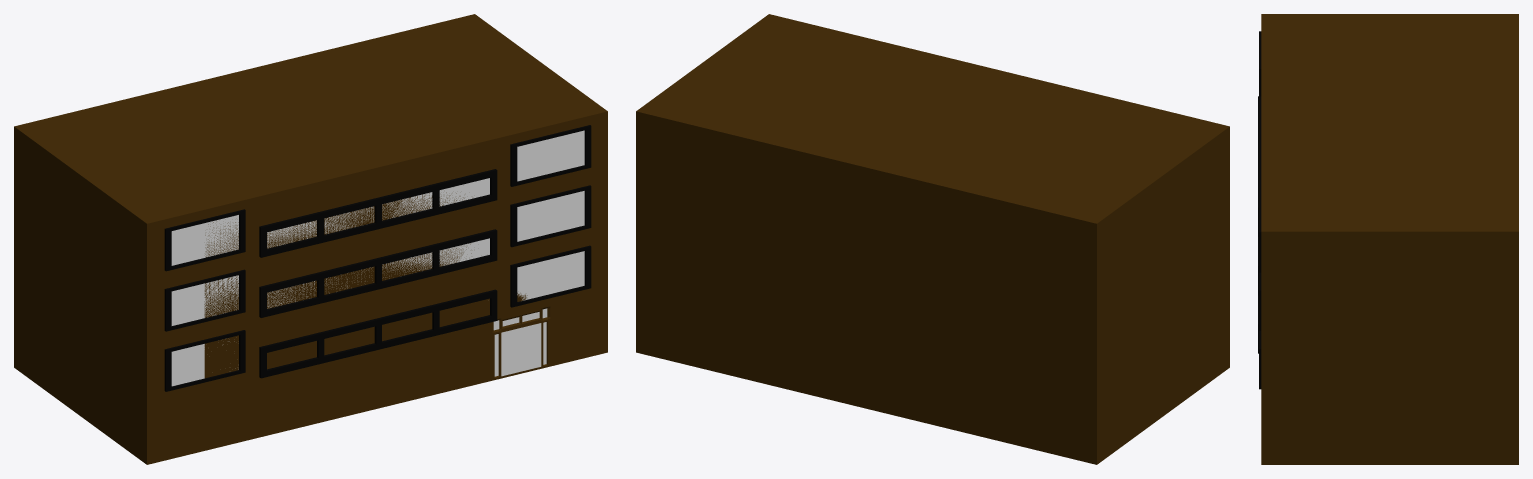
File: haz2 fbx.fbx
3 renders of one model, left to right at view 1: azimuth 30°, elevation 25°; view 2: azimuth 150°, elevation 25°; view 3: azimuth 270°, elevation 25°, orthographic. The views are drawn at different scales.
Parts seen in each view (by area): view 1: Cube, plafon, balfal, ablak, ablak.001, ablak.005, ablak.002, ablak.004, ablak.003, erkely.001, erkely, erkely.003 (+8 smaller); view 2: Cube, hatsofal, plafon, balfal; view 3: jobbfal, Cube, plafon.
Part boxes in pixels (bbox=[...]): Cube: bbox=[79, 28, 550, 450]; plafon: bbox=[14, 14, 607, 223]; balfal: bbox=[14, 126, 146, 464]; ablak: bbox=[147, 196, 262, 283]; ablak.001: bbox=[492, 111, 607, 198]; ablak.005: bbox=[492, 171, 607, 258]; ablak.002: bbox=[147, 257, 261, 344]; ablak.004: bbox=[492, 232, 607, 307]; ablak.003: bbox=[147, 317, 261, 404]; erkely.001: bbox=[374, 169, 497, 229]; erkely: bbox=[259, 197, 381, 257]; erkely.003: bbox=[374, 229, 497, 289]; Cube: bbox=[693, 28, 1171, 448]; hatsofal: bbox=[636, 111, 1096, 464]; plafon: bbox=[636, 14, 1229, 223]; balfal: bbox=[1097, 126, 1229, 464]; jobbfal: bbox=[1261, 231, 1518, 464]; Cube: bbox=[1261, 41, 1518, 204]; plafon: bbox=[1261, 14, 1518, 231].
Bounding box in the file's own units: 1600 × 800 × 810.
